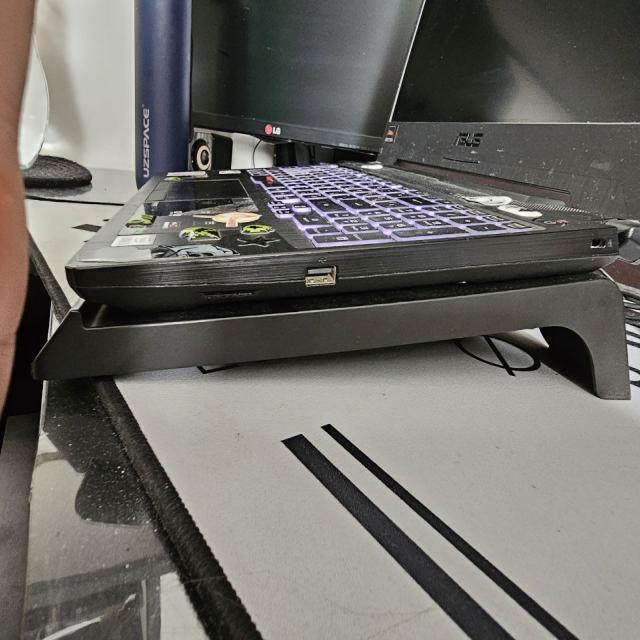chip: (166, 274, 276, 309)
